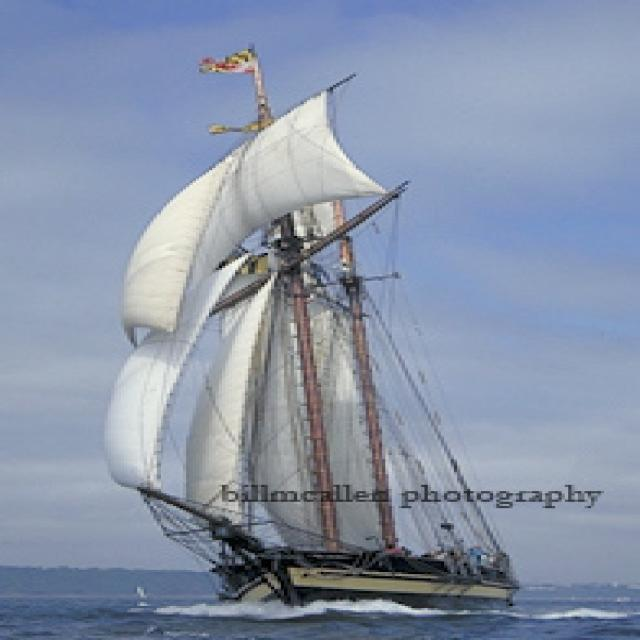Ship: (108, 55, 543, 611)
